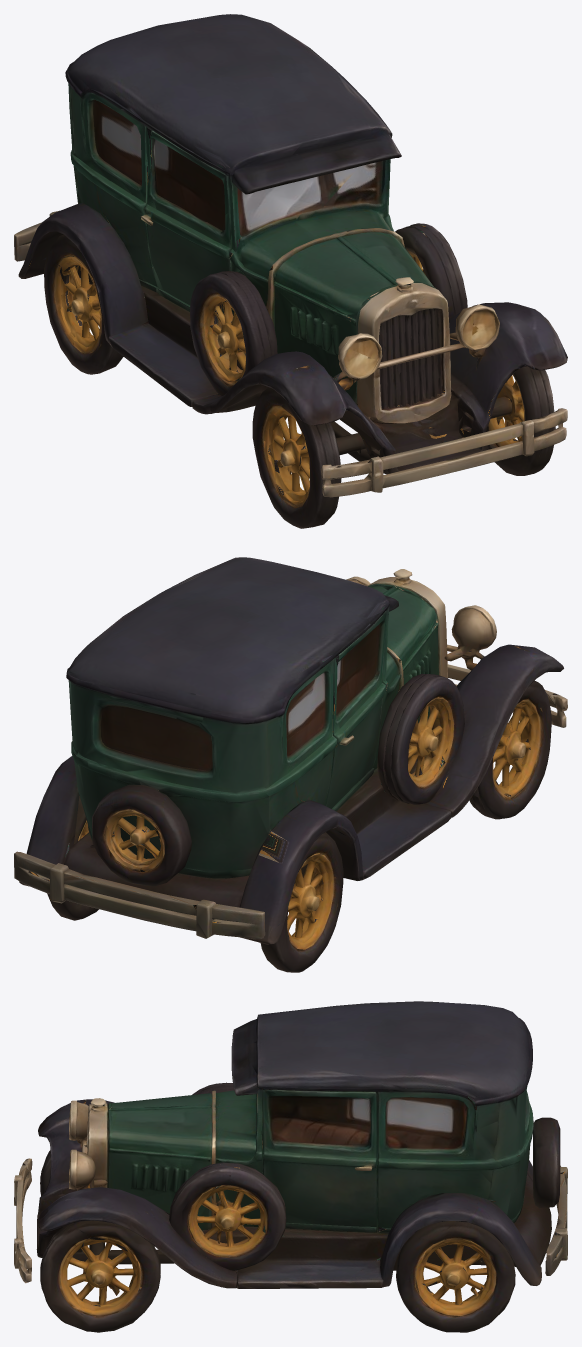
Rendered from ford-model-a.glb.
3 renders of one model, top to bottom at view 1: azimuth 30°, elevation 25°; view 2: azimuth 150°, elevation 25°; view 3: azimuth 270°, elevation 25°, orthographic. The views are drawn at different scales.
Visible parts, largest first — view 1: SM_FordModelA; view 2: SM_FordModelA; view 3: SM_FordModelA.
Boxes of the visible parts, x1,y1,x2,y2 form: SM_FordModelA: [14, 14, 567, 528]; SM_FordModelA: [14, 557, 567, 972]; SM_FordModelA: [14, 1001, 567, 1332].
Size of the model in its own units: 1.86 by 2 by 3.9.
1 material, 1 textured.
